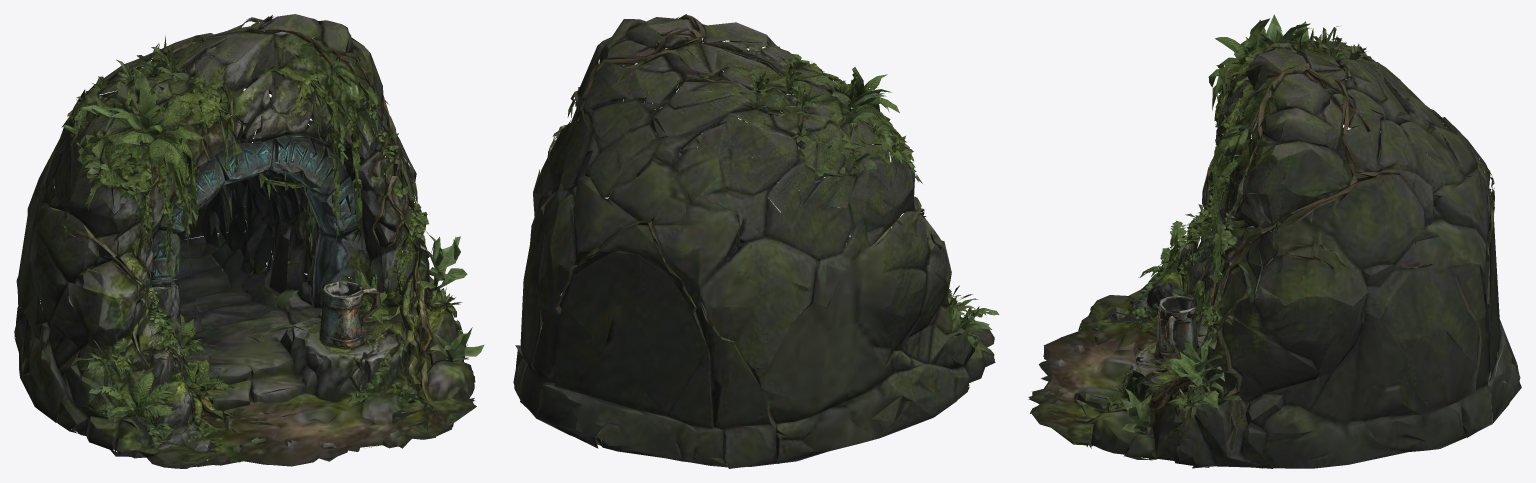
The model's file is tunnel.glb.
3 views of the same model, side by side, from view 1: azimuth 30°, elevation 25°; view 2: azimuth 150°, elevation 25°; view 3: azimuth 270°, elevation 25° (orthographic). The views are drawn at different scales.
Parts seen in each view (by area): view 1: Mesh_0; view 2: Mesh_0; view 3: Mesh_0.
Part boxes in pixels (left/top/right/bottom): Mesh_0: left=14, top=14, right=484, bottom=468; Mesh_0: left=513, top=14, right=999, bottom=468; Mesh_0: left=1028, top=14, right=1521, bottom=468.
Bounding box in the file's own units: 6.27 × 5 × 6.71.
1 material, 1 textured.
